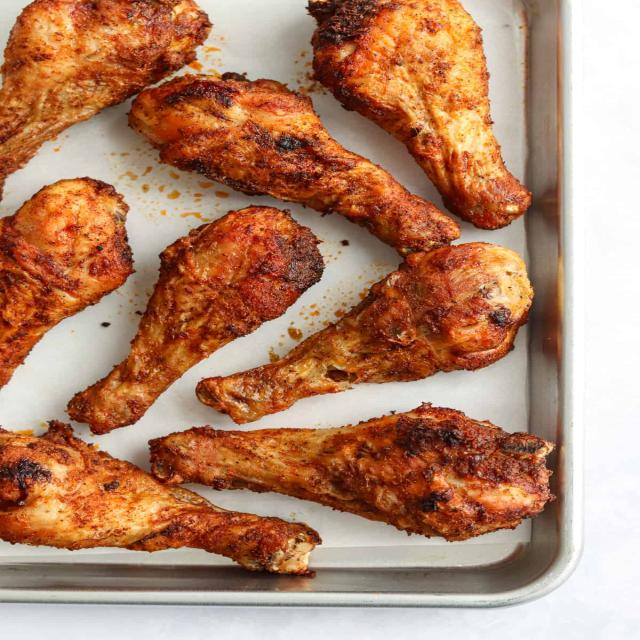Frango: (0, 0, 563, 573)
